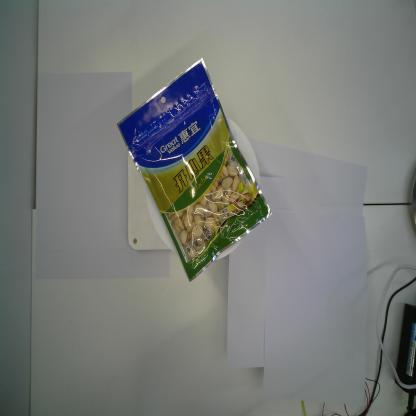Dried Fruit: (116, 57, 272, 283)
